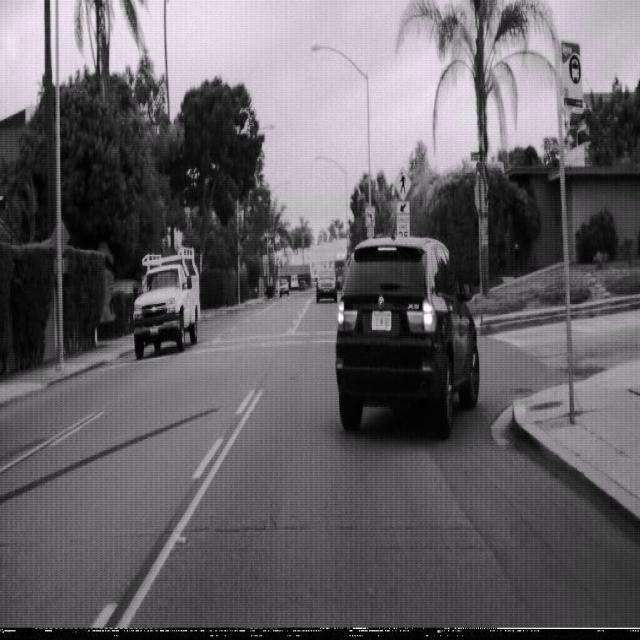pedestrianCrossing: (392, 165, 412, 202)
speedLimit25: (396, 213, 409, 244)
